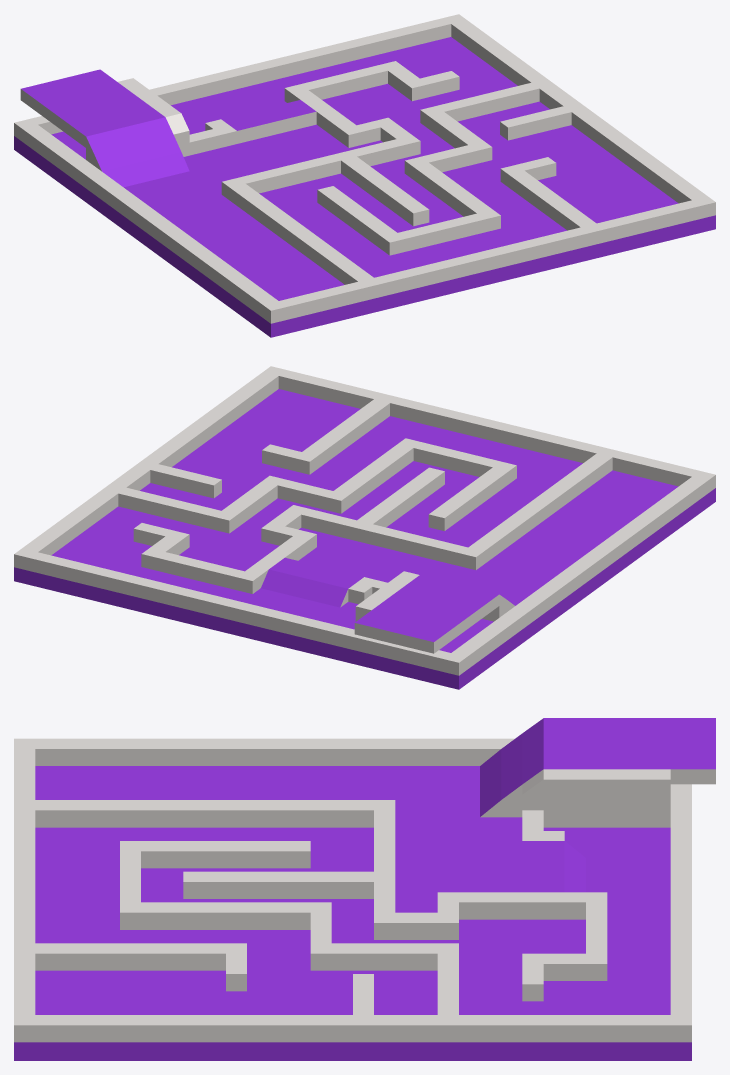
Rendered from Level1.fbx.
The picture shows the model from 3 angles, top to bottom: view 1: azimuth 30°, elevation 25°; view 2: azimuth 150°, elevation 25°; view 3: azimuth 270°, elevation 25°; orthographic projection. The views are drawn at different scales.
Parts seen in each view (by area): view 1: Cube; view 2: Cube; view 3: Cube.
Part boxes in pixels (x1,y1,x2,y2): Cube: (14, 14, 715, 337); Cube: (14, 366, 715, 689); Cube: (14, 718, 715, 1060).
Size of the model in its own units: 2234 by 242 by 2314.
